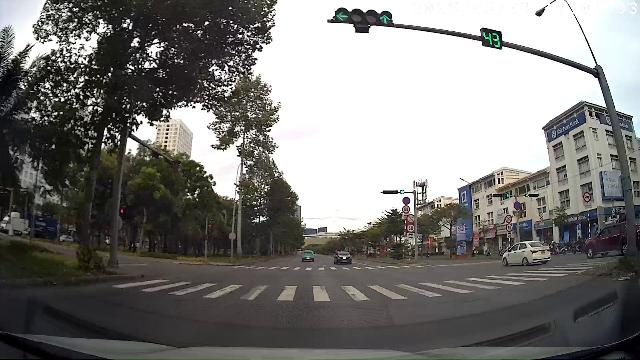127-toc-do-toi-da-60: (407, 224, 415, 232)
127-toc-do-toi-da-80: (402, 205, 410, 213)
130-cam-dung-va-do-xe: (402, 197, 410, 205)
